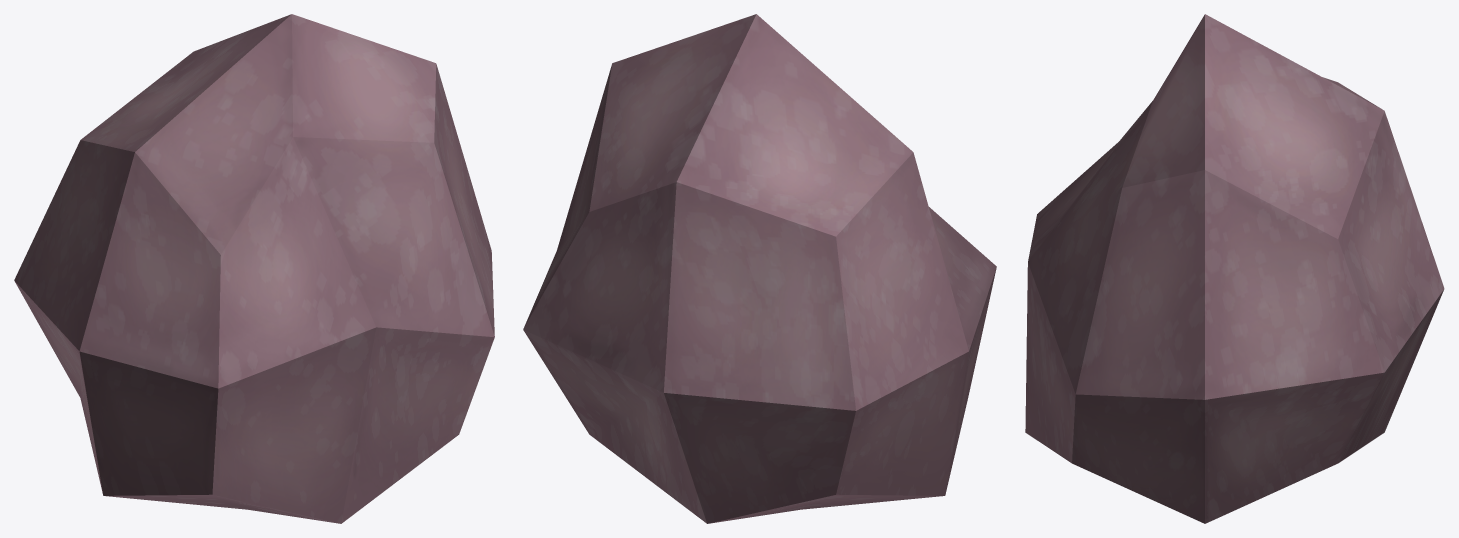
File: Game_stone.fbx
3 views of the same model, side by side, from view 1: azimuth 30°, elevation 25°; view 2: azimuth 150°, elevation 25°; view 3: azimuth 270°, elevation 25° (orthographic).
Visible parts, largest first — view 1: Stone; view 2: Stone; view 3: Stone.
Part boxes in pixels (bbox=[...]): Stone: bbox=[14, 14, 494, 523]; Stone: bbox=[523, 14, 996, 523]; Stone: bbox=[1025, 14, 1444, 523].
Size of the model in its own units: 9.41 by 10.57 by 8.22.
Materials: 1 (1 with a texture image).
